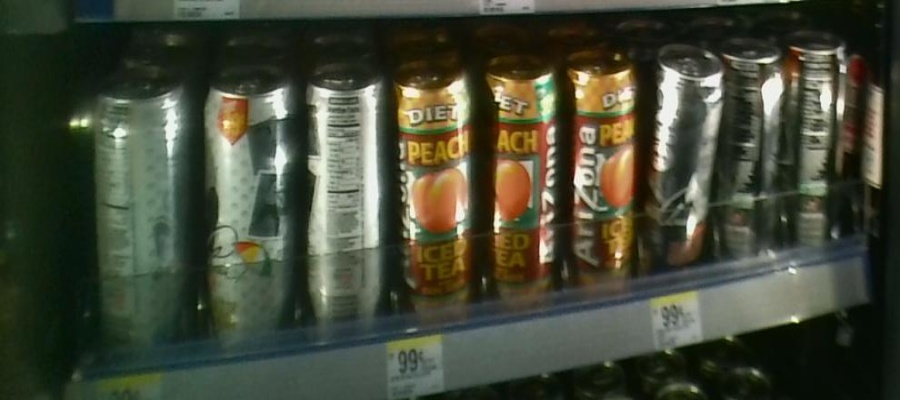bottle: (90, 72, 200, 373), (204, 56, 298, 345), (304, 49, 394, 344), (480, 34, 563, 315), (396, 49, 476, 326), (643, 37, 724, 273), (567, 38, 635, 294), (785, 18, 845, 265), (728, 27, 779, 269)
